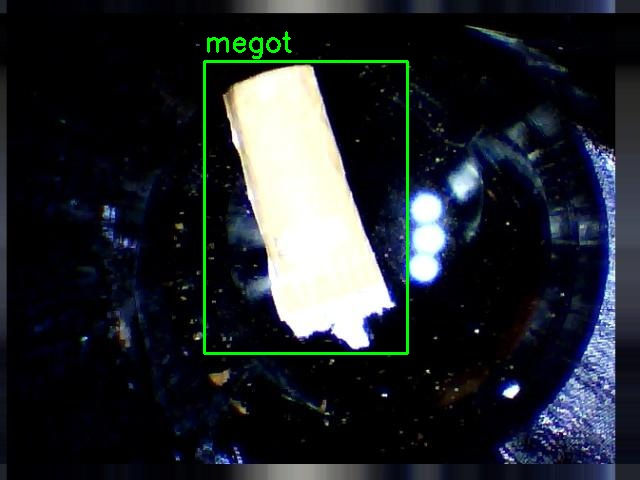megot: (204, 61, 407, 353)
